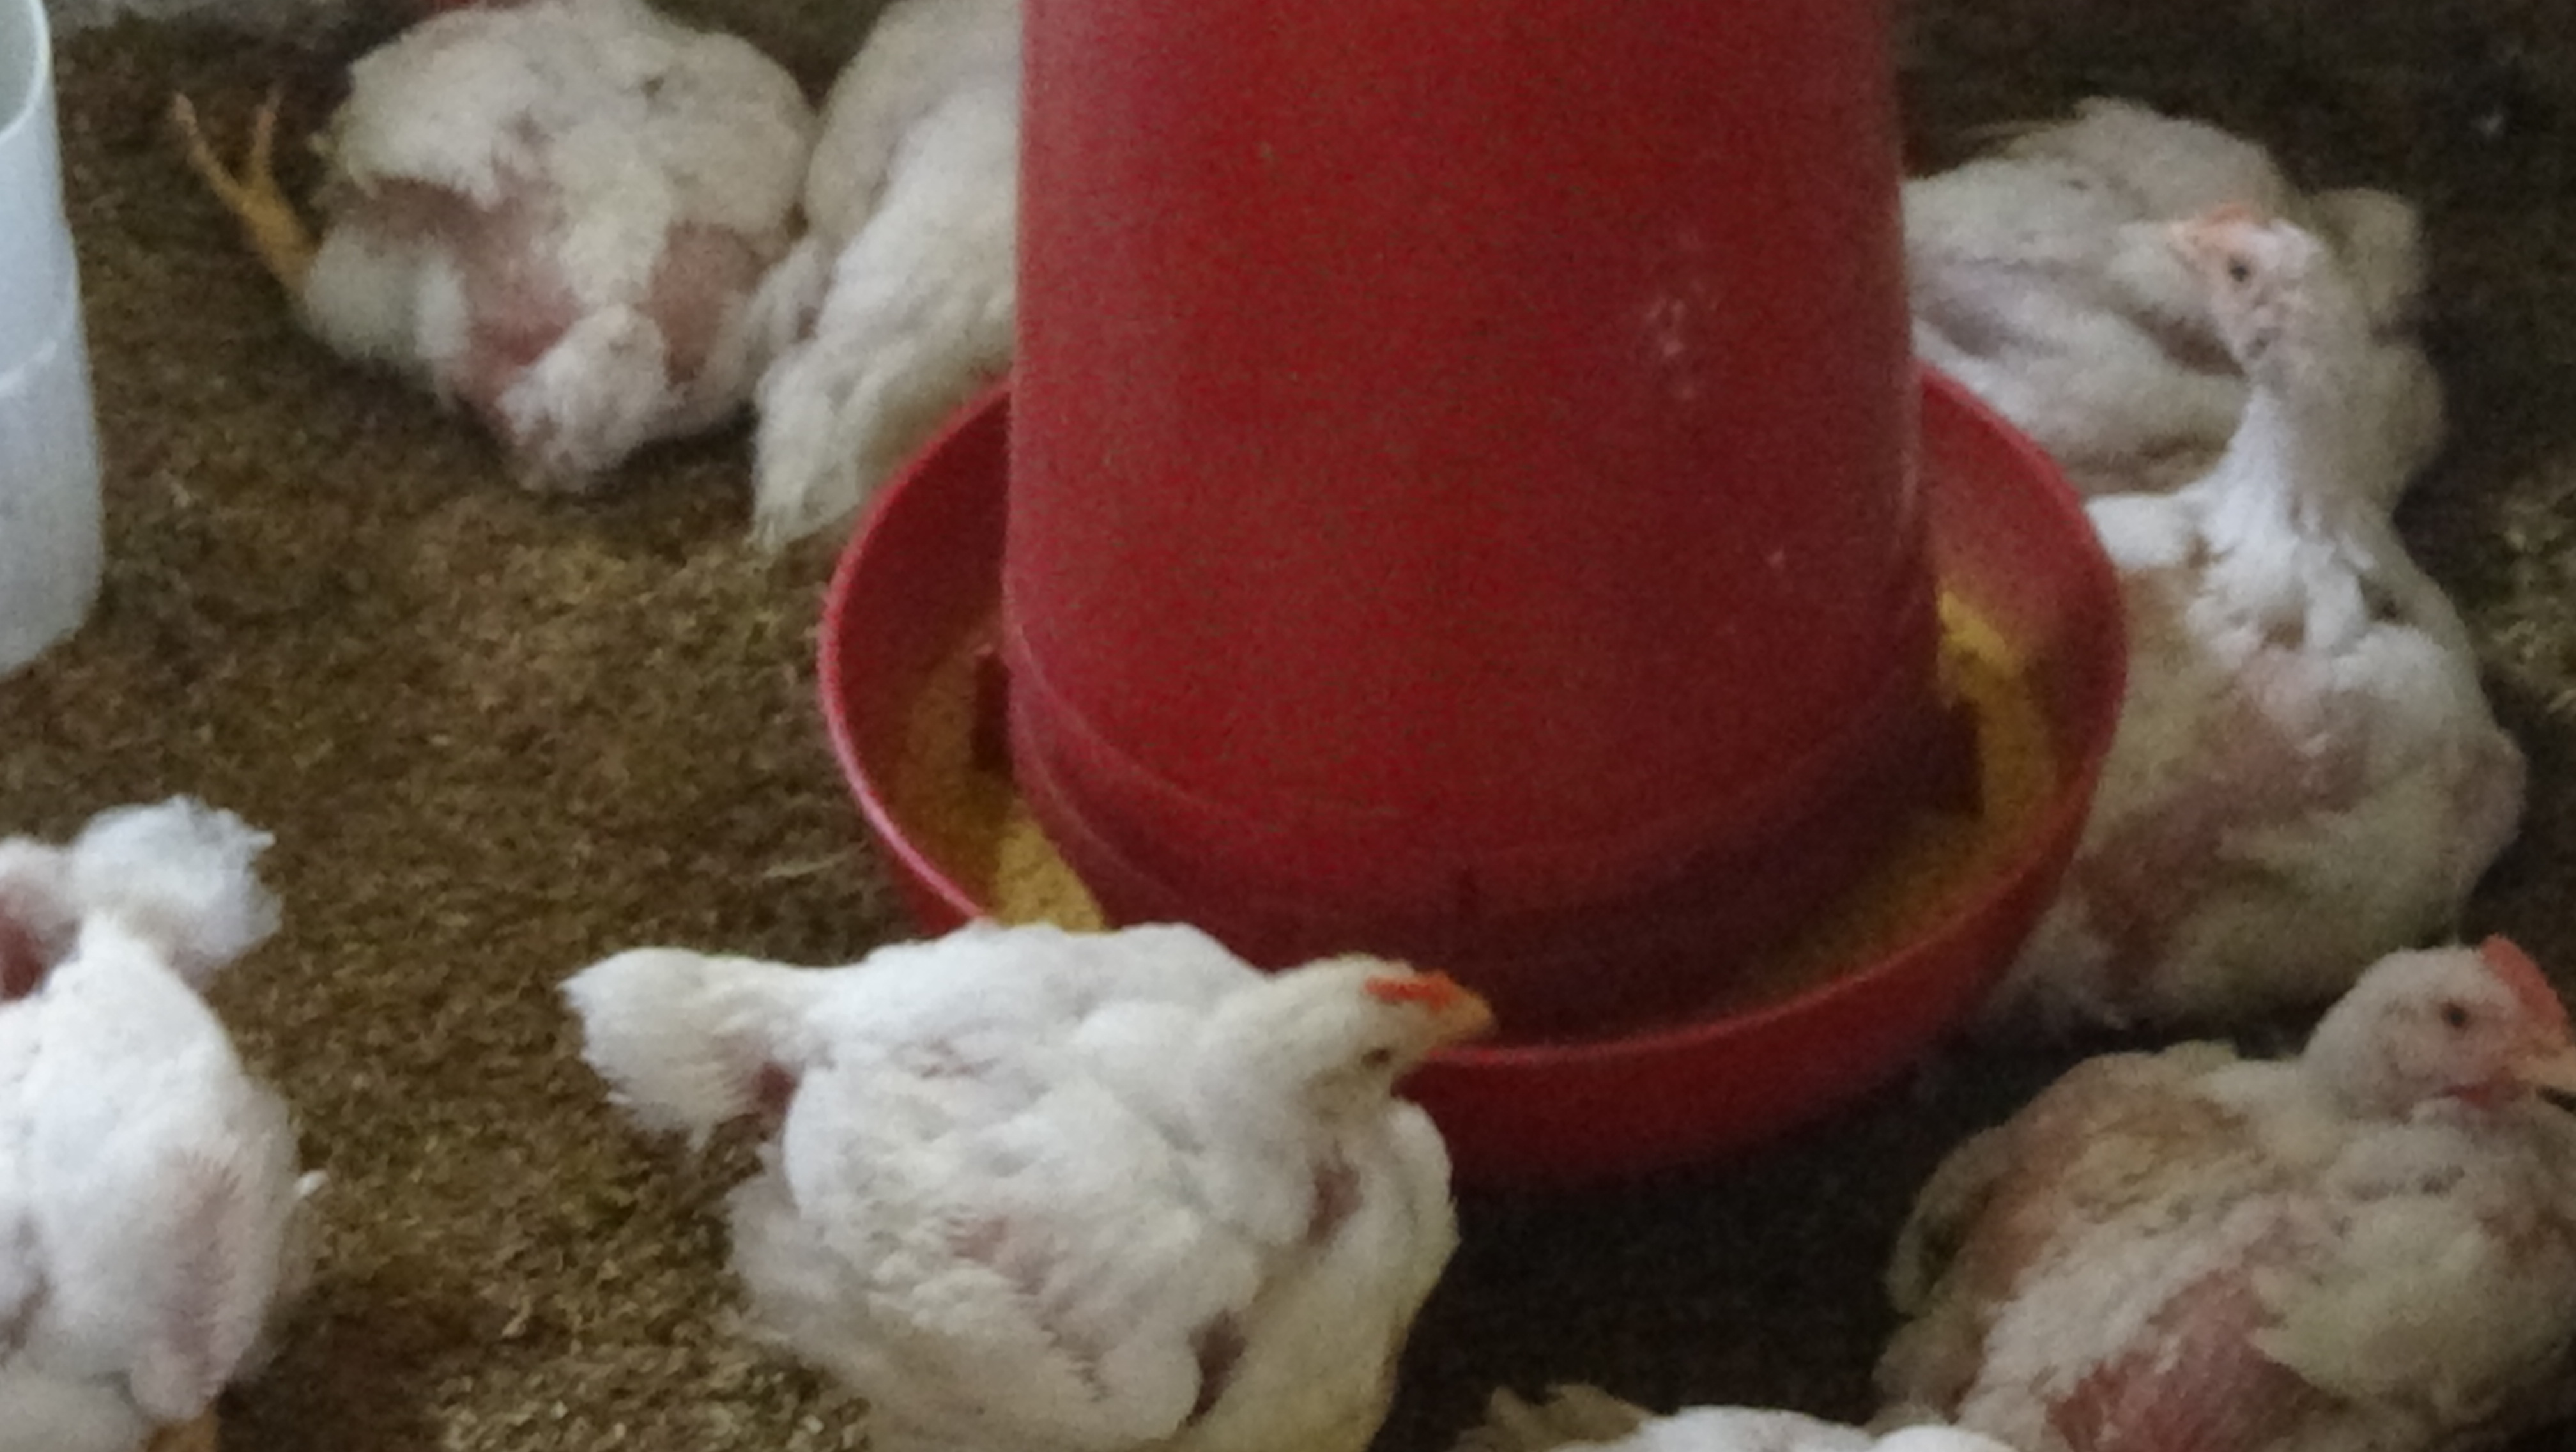Pollos: (609, 919, 1539, 1448), (1900, 919, 2569, 1452), (2066, 221, 2541, 908), (232, 0, 798, 448), (4, 763, 345, 1445), (1900, 99, 2503, 460), (729, 0, 1037, 501)
